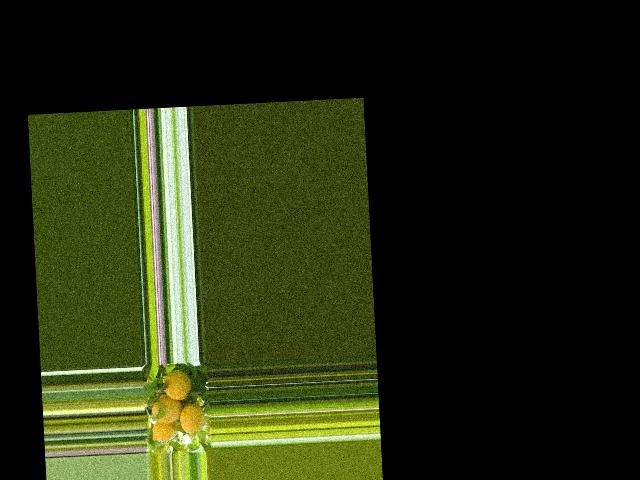lemon: (159, 367, 193, 401)
